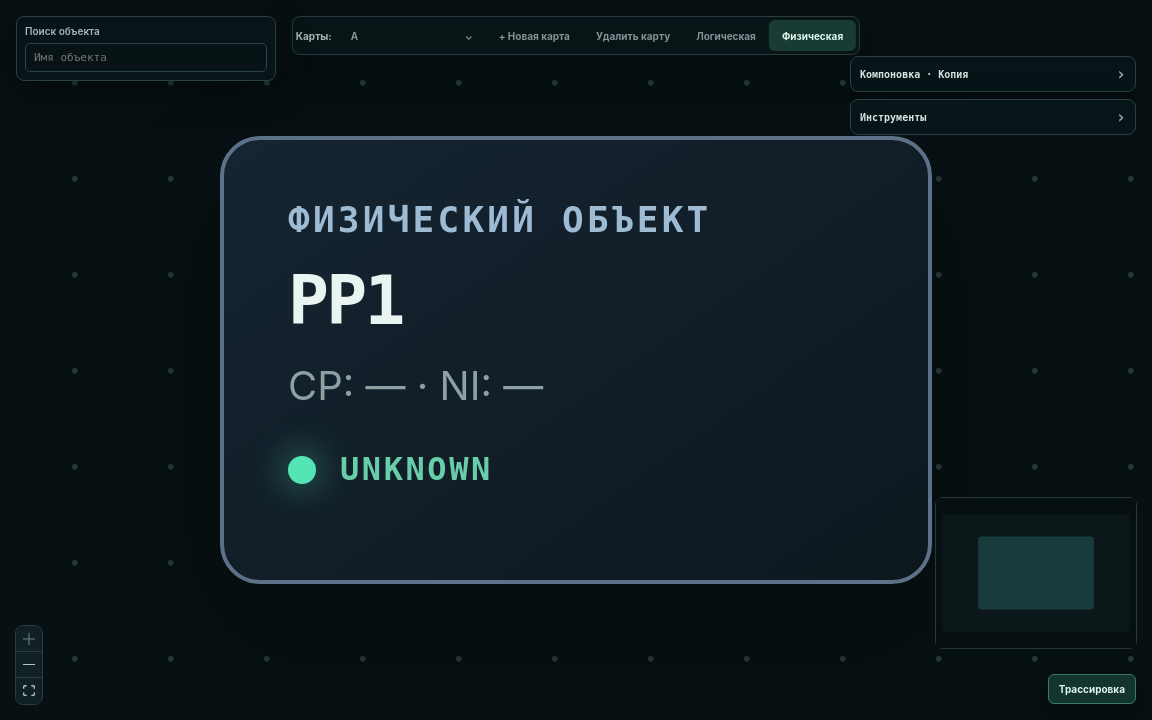
Test: MapPage SavedMap scope › shows the structured server refusal and retains the selected layout
Check: the text "PP1" is shown, box x1=288 y1=260 x2=403 y2=340
Click the button "Компоновка · Копия ›" at coordinates (914, 74), box x1=851 y1=57 x2=1135 y2=91
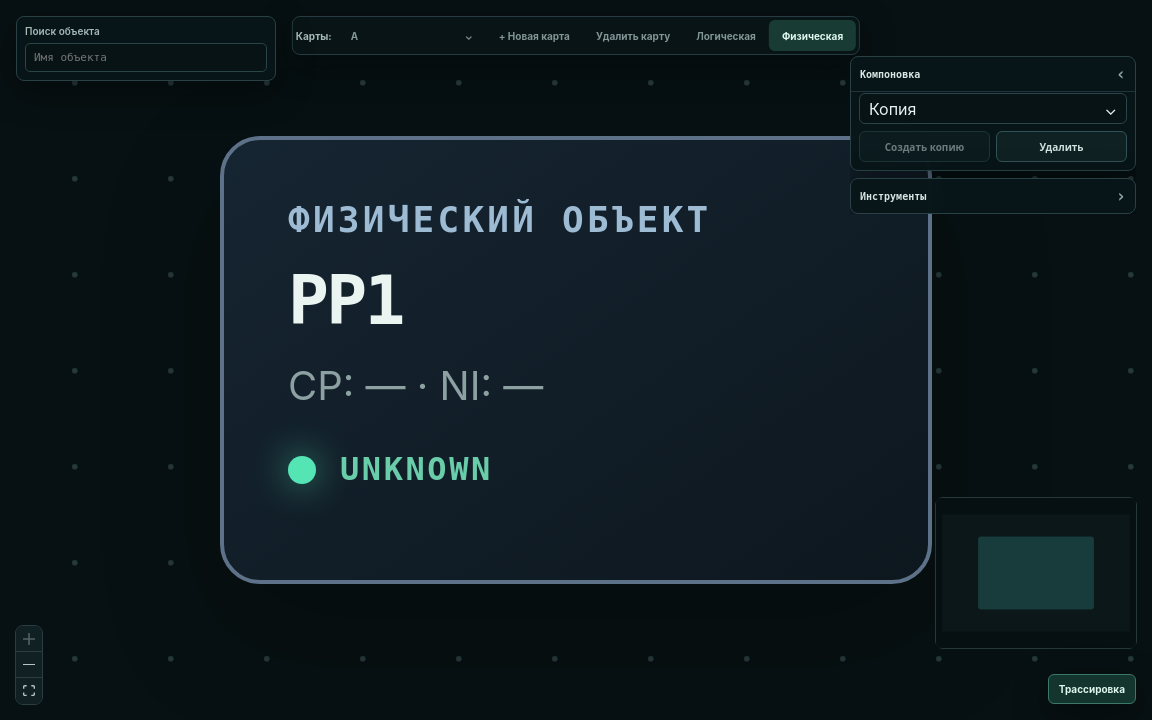
Click the button "Удалить" at coordinates (1062, 146), box x1=996 y1=131 x2=1127 y2=162
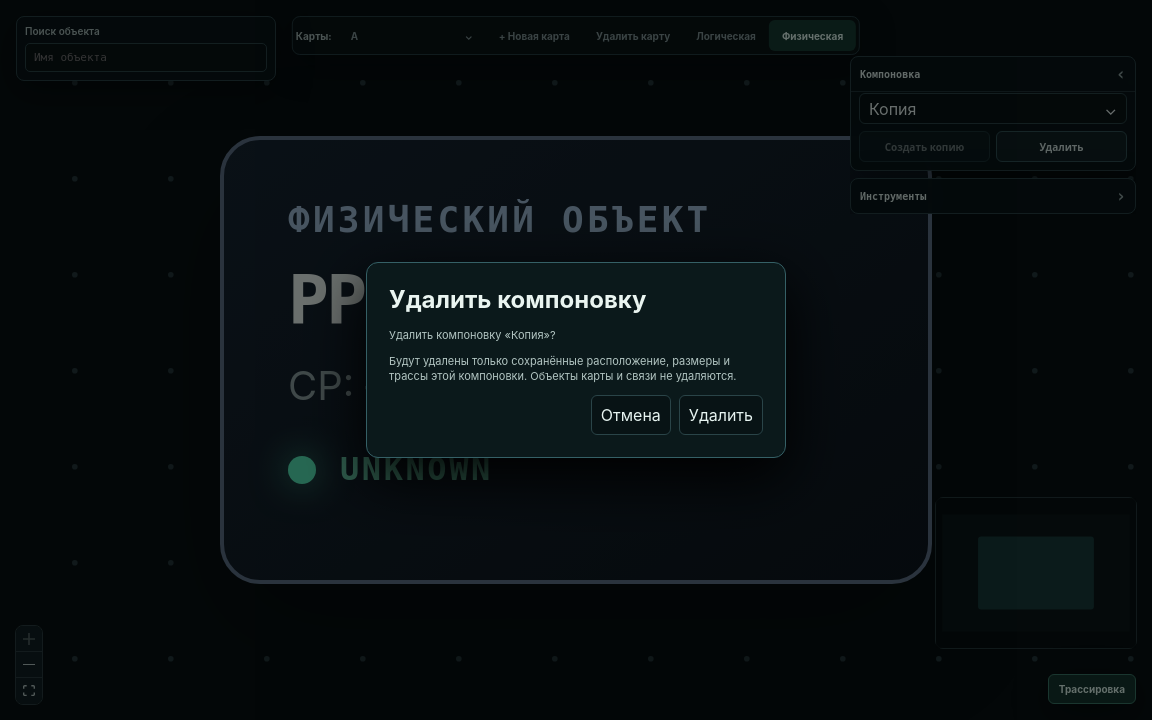
Click the button "Удалить" at coordinates (721, 415), box x1=679 y1=395 x2=763 y2=435
(page scrolled)
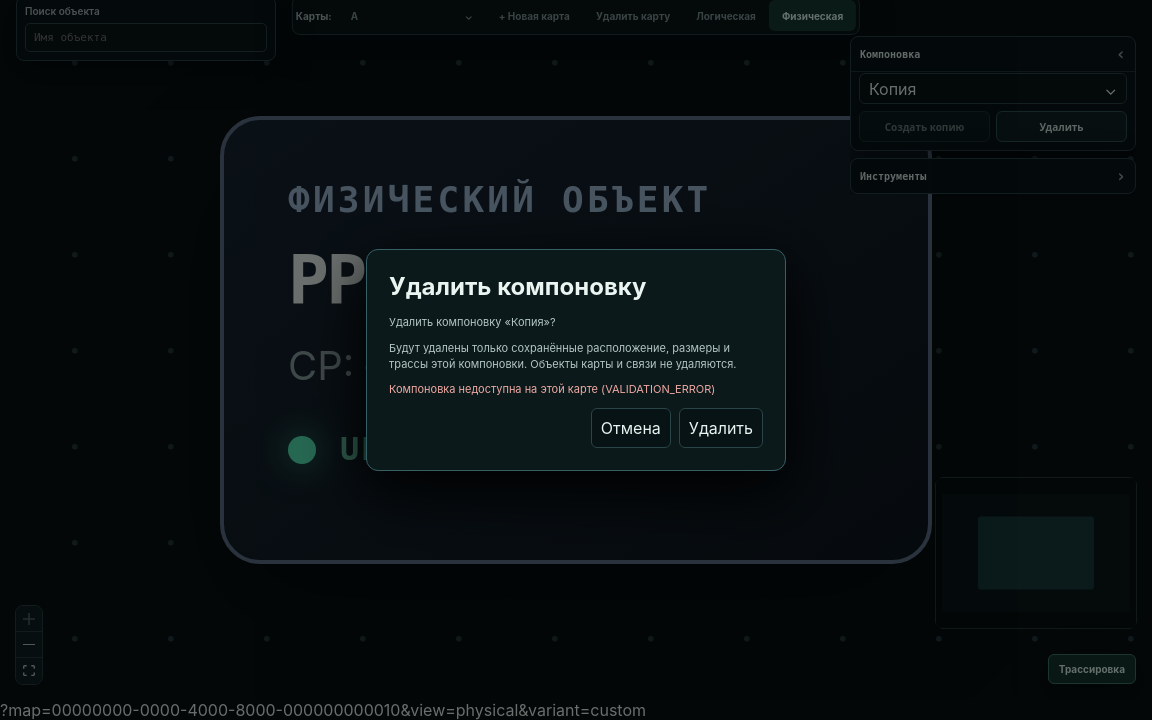
Check: the text with test id "location" shows "variant=custom", box x1=0 y1=700 x2=646 y2=719
Check: the message reads "Компоновка недоступна на этой карте (VALIDATION_ERROR)", box x1=389 y1=382 x2=715 y2=396
